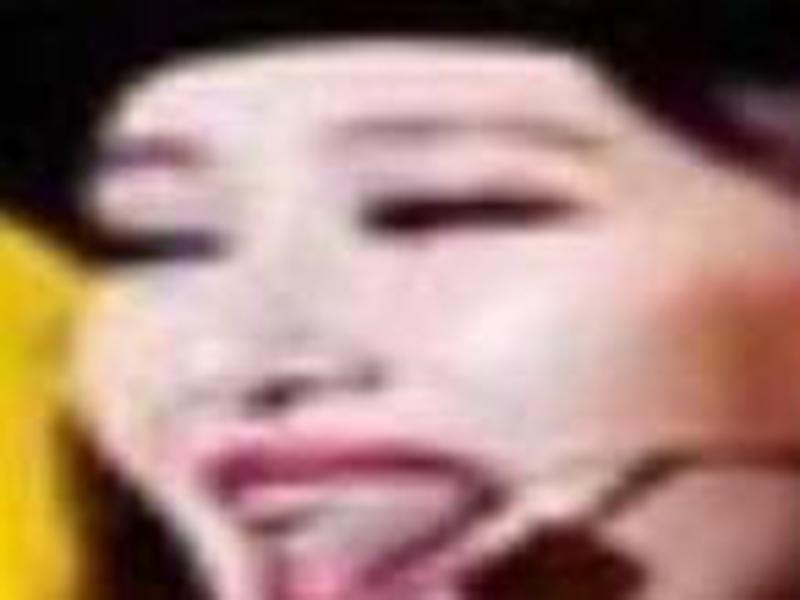without_mask: (79, 87, 731, 600)
